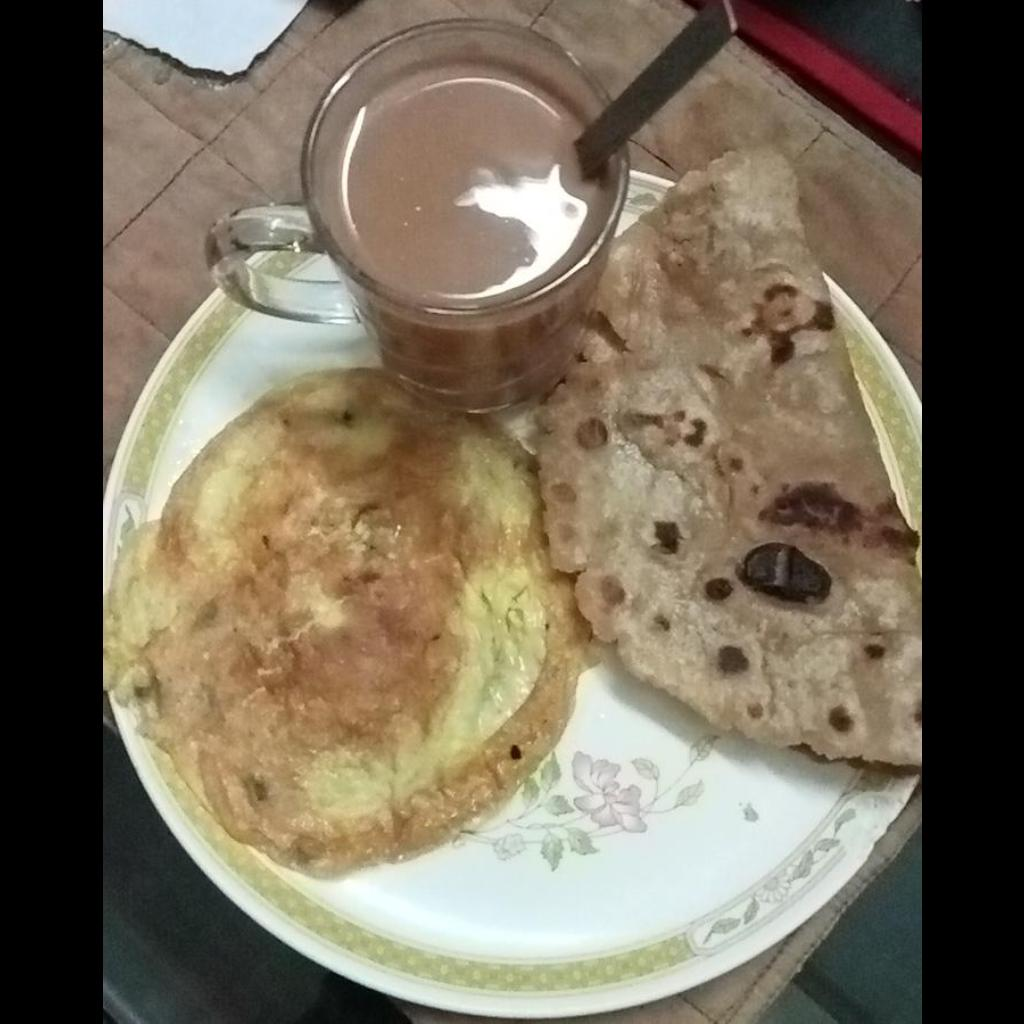cha: (330, 66, 600, 301)
egg-poached: (107, 369, 582, 882)
ruti: (535, 149, 920, 768)
